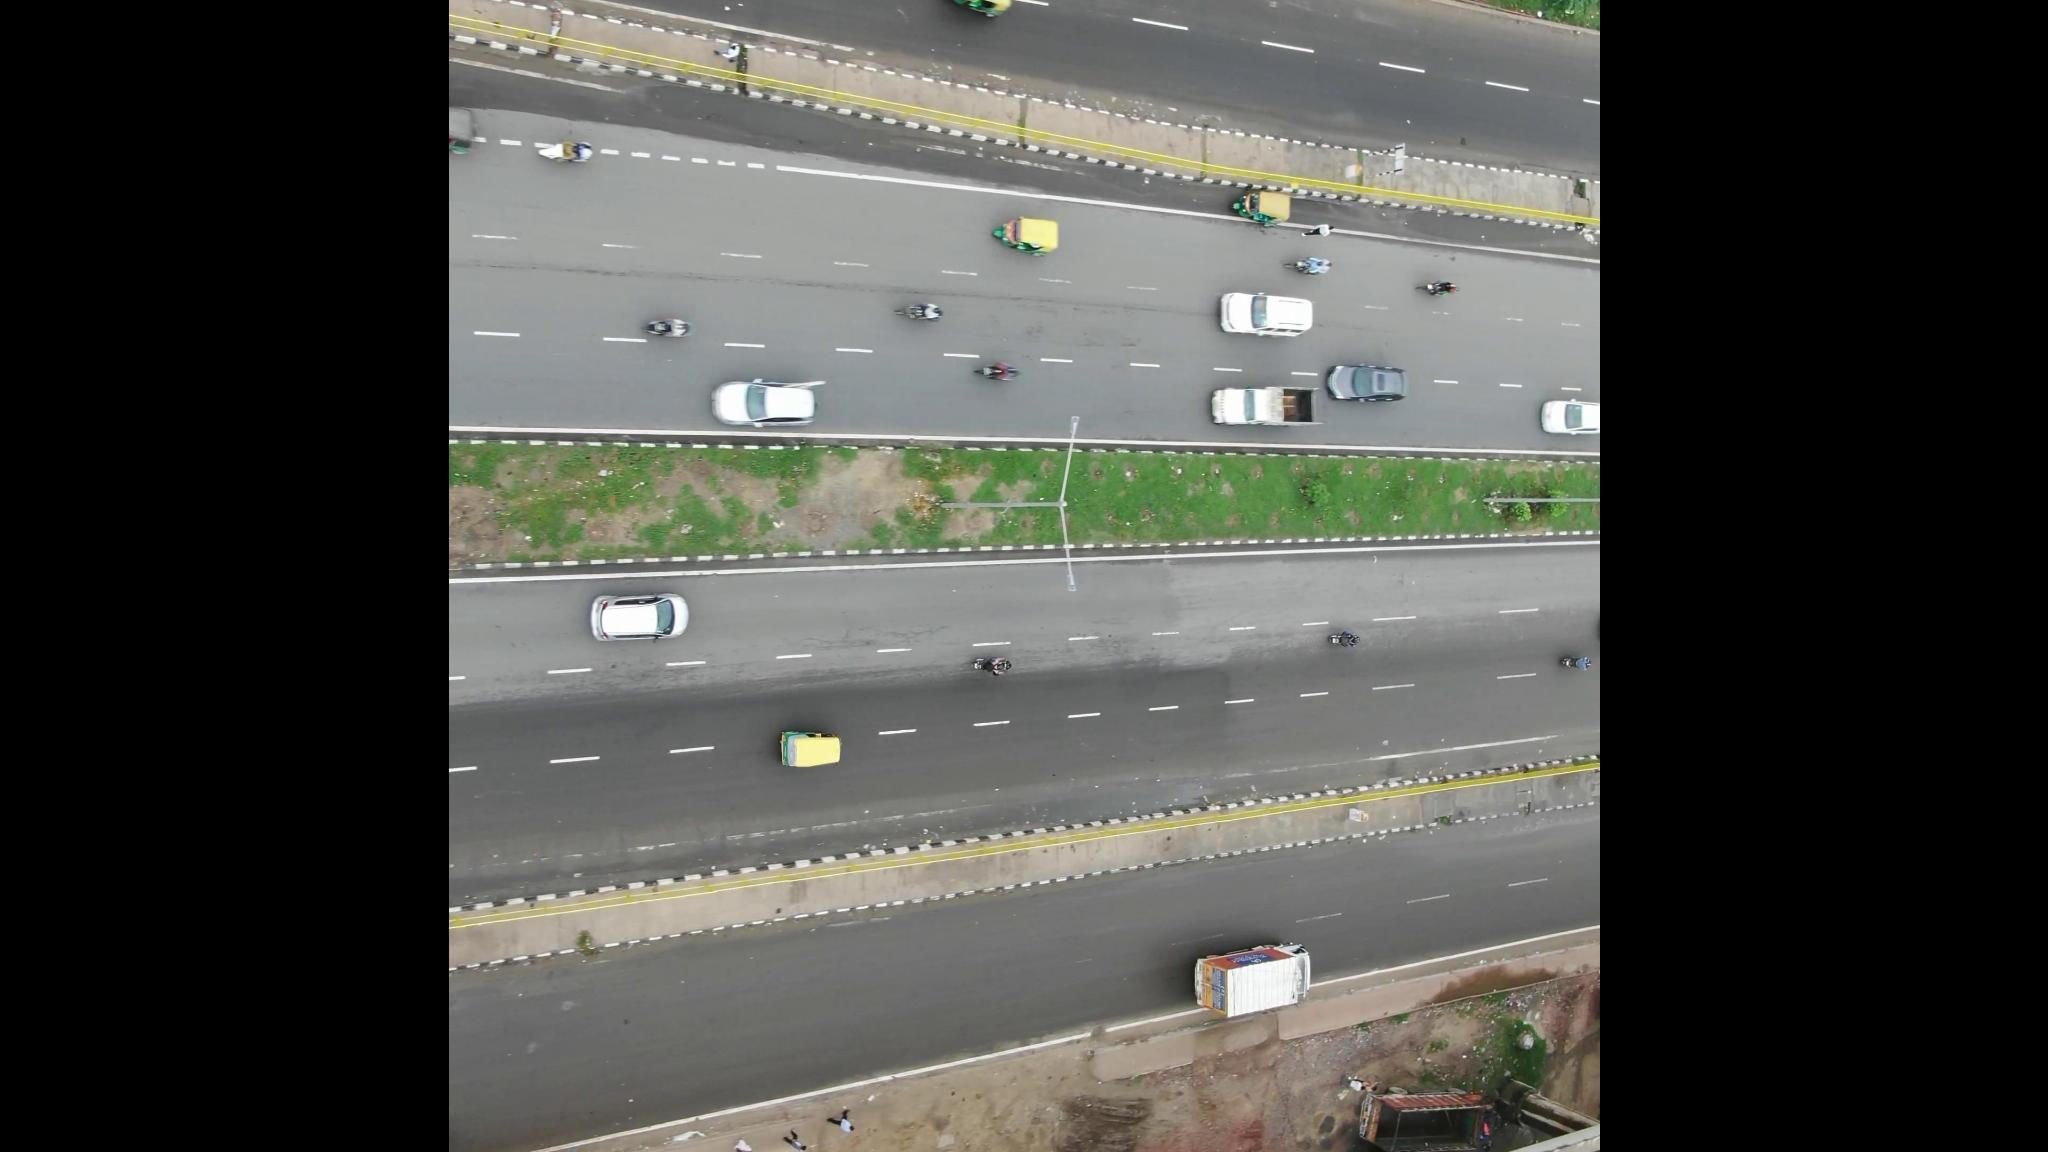Ravelling: (994, 269, 1142, 328), (463, 248, 639, 290), (821, 277, 985, 316), (674, 267, 792, 308)
